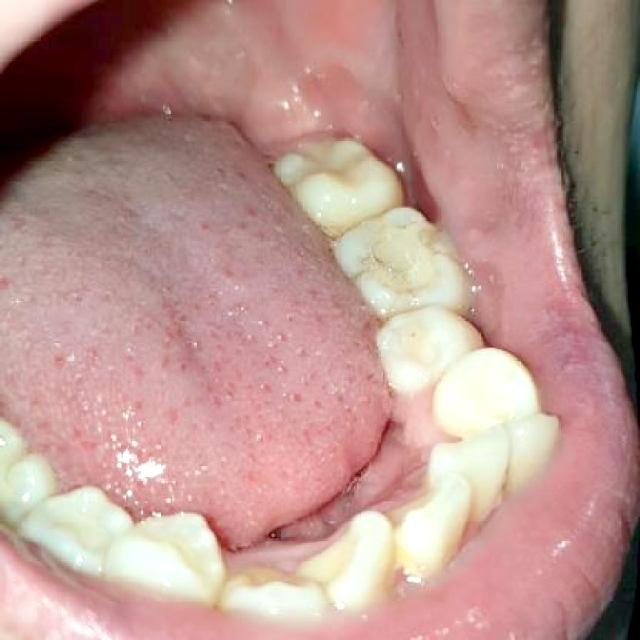Plaque: (319, 179, 477, 319)
